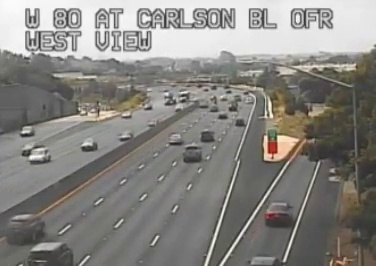car: (28, 242, 74, 266), (7, 214, 45, 242), (265, 202, 291, 224), (183, 145, 201, 162), (200, 130, 214, 142), (168, 133, 181, 143)
